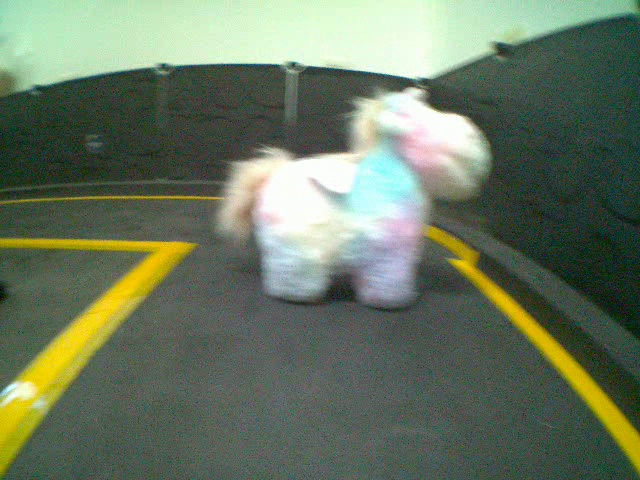unicorn: (215, 84, 496, 315)
